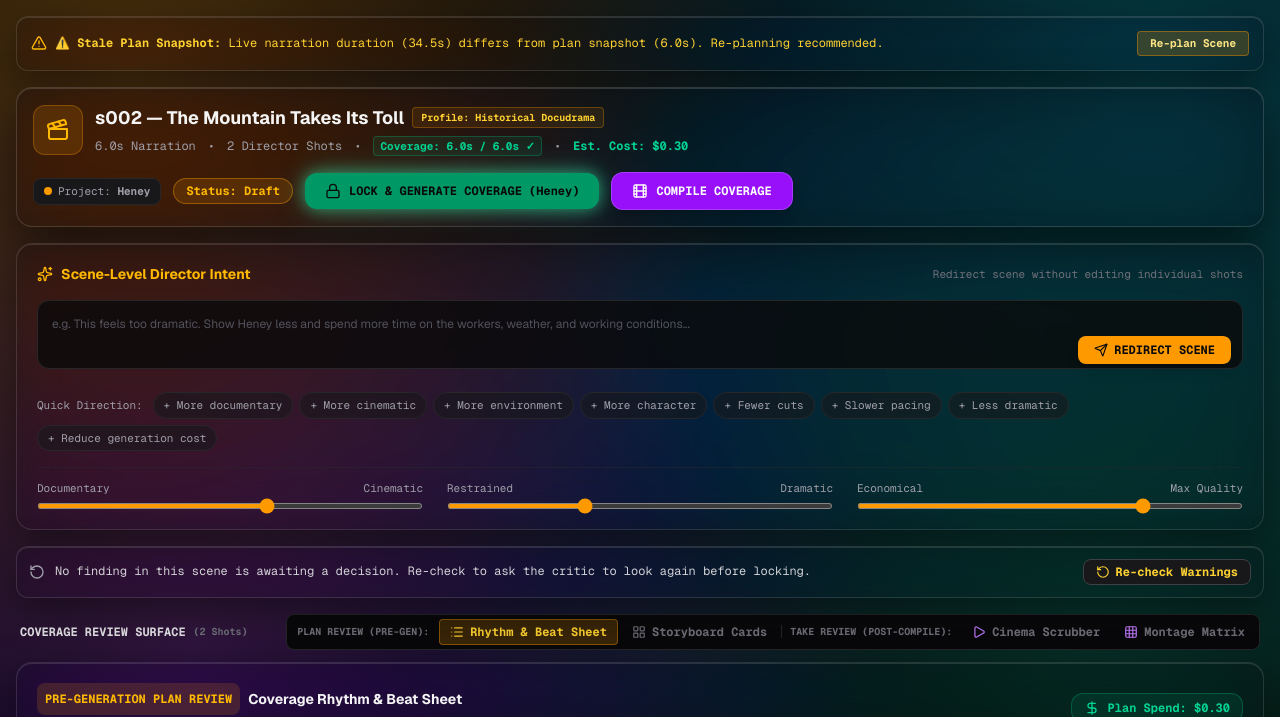
Test: REDIRECT SCENE while the planner runs › a planning failure is reported, not left as a silent stop
This screenshot has width=1280, height=717.
Click the button with test id "redirect-scene" at (1155,350), box [1078,336,1231,364]
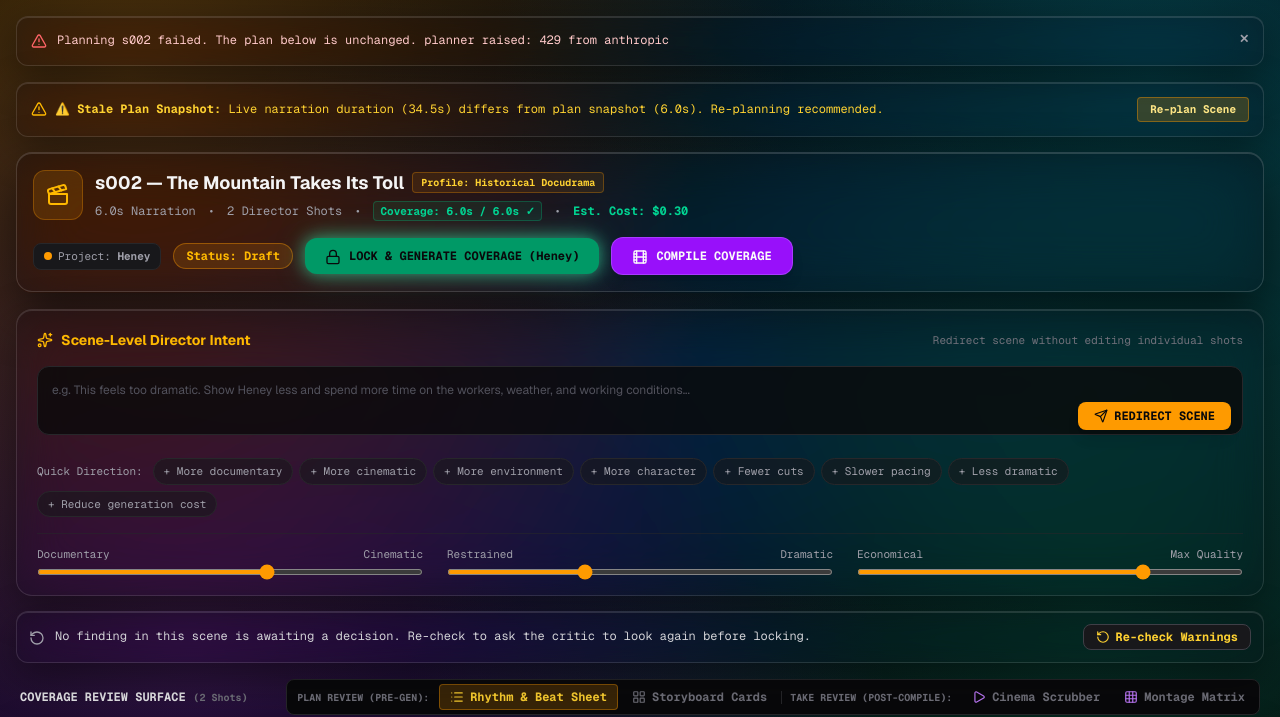
Now the text "Planning s002 failed" is shown, box [57,32,669,48]
Now the text "429 from anthropic" is shown, box [57,32,669,48]
